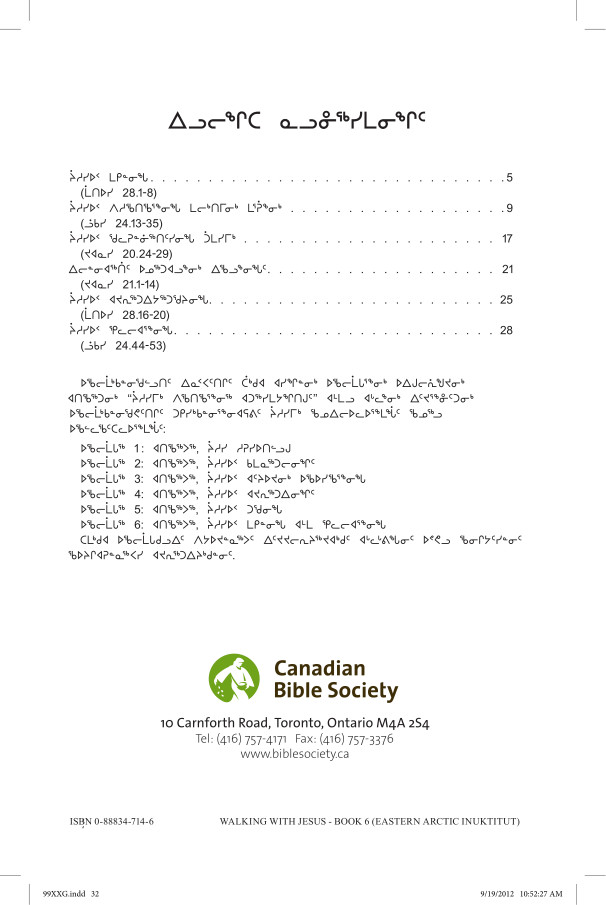inuktitut: (59, 366, 529, 575), (60, 158, 286, 354), (158, 101, 433, 136)
latin: (152, 710, 431, 769), (264, 653, 400, 705), (210, 807, 528, 828), (62, 811, 157, 828)
